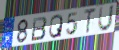5: (65, 11, 80, 37)
8: (16, 18, 30, 45)
B: (30, 16, 48, 42)
Q: (48, 13, 64, 39)
T: (84, 7, 97, 35)
U: (97, 4, 116, 33)
